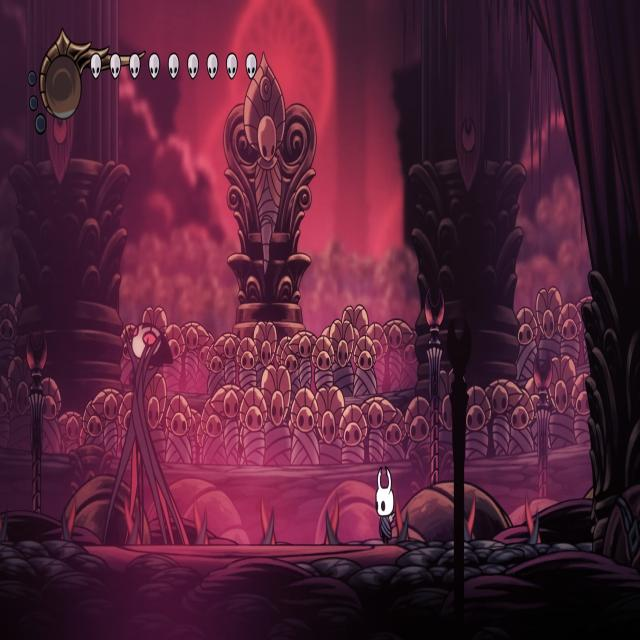Grimm: (107, 310, 190, 539)
Player: (374, 462, 401, 548)
Spikes: (322, 488, 340, 546), (62, 485, 80, 543), (524, 494, 544, 545), (260, 492, 278, 546), (193, 495, 210, 547), (464, 489, 478, 541), (395, 494, 410, 542)
